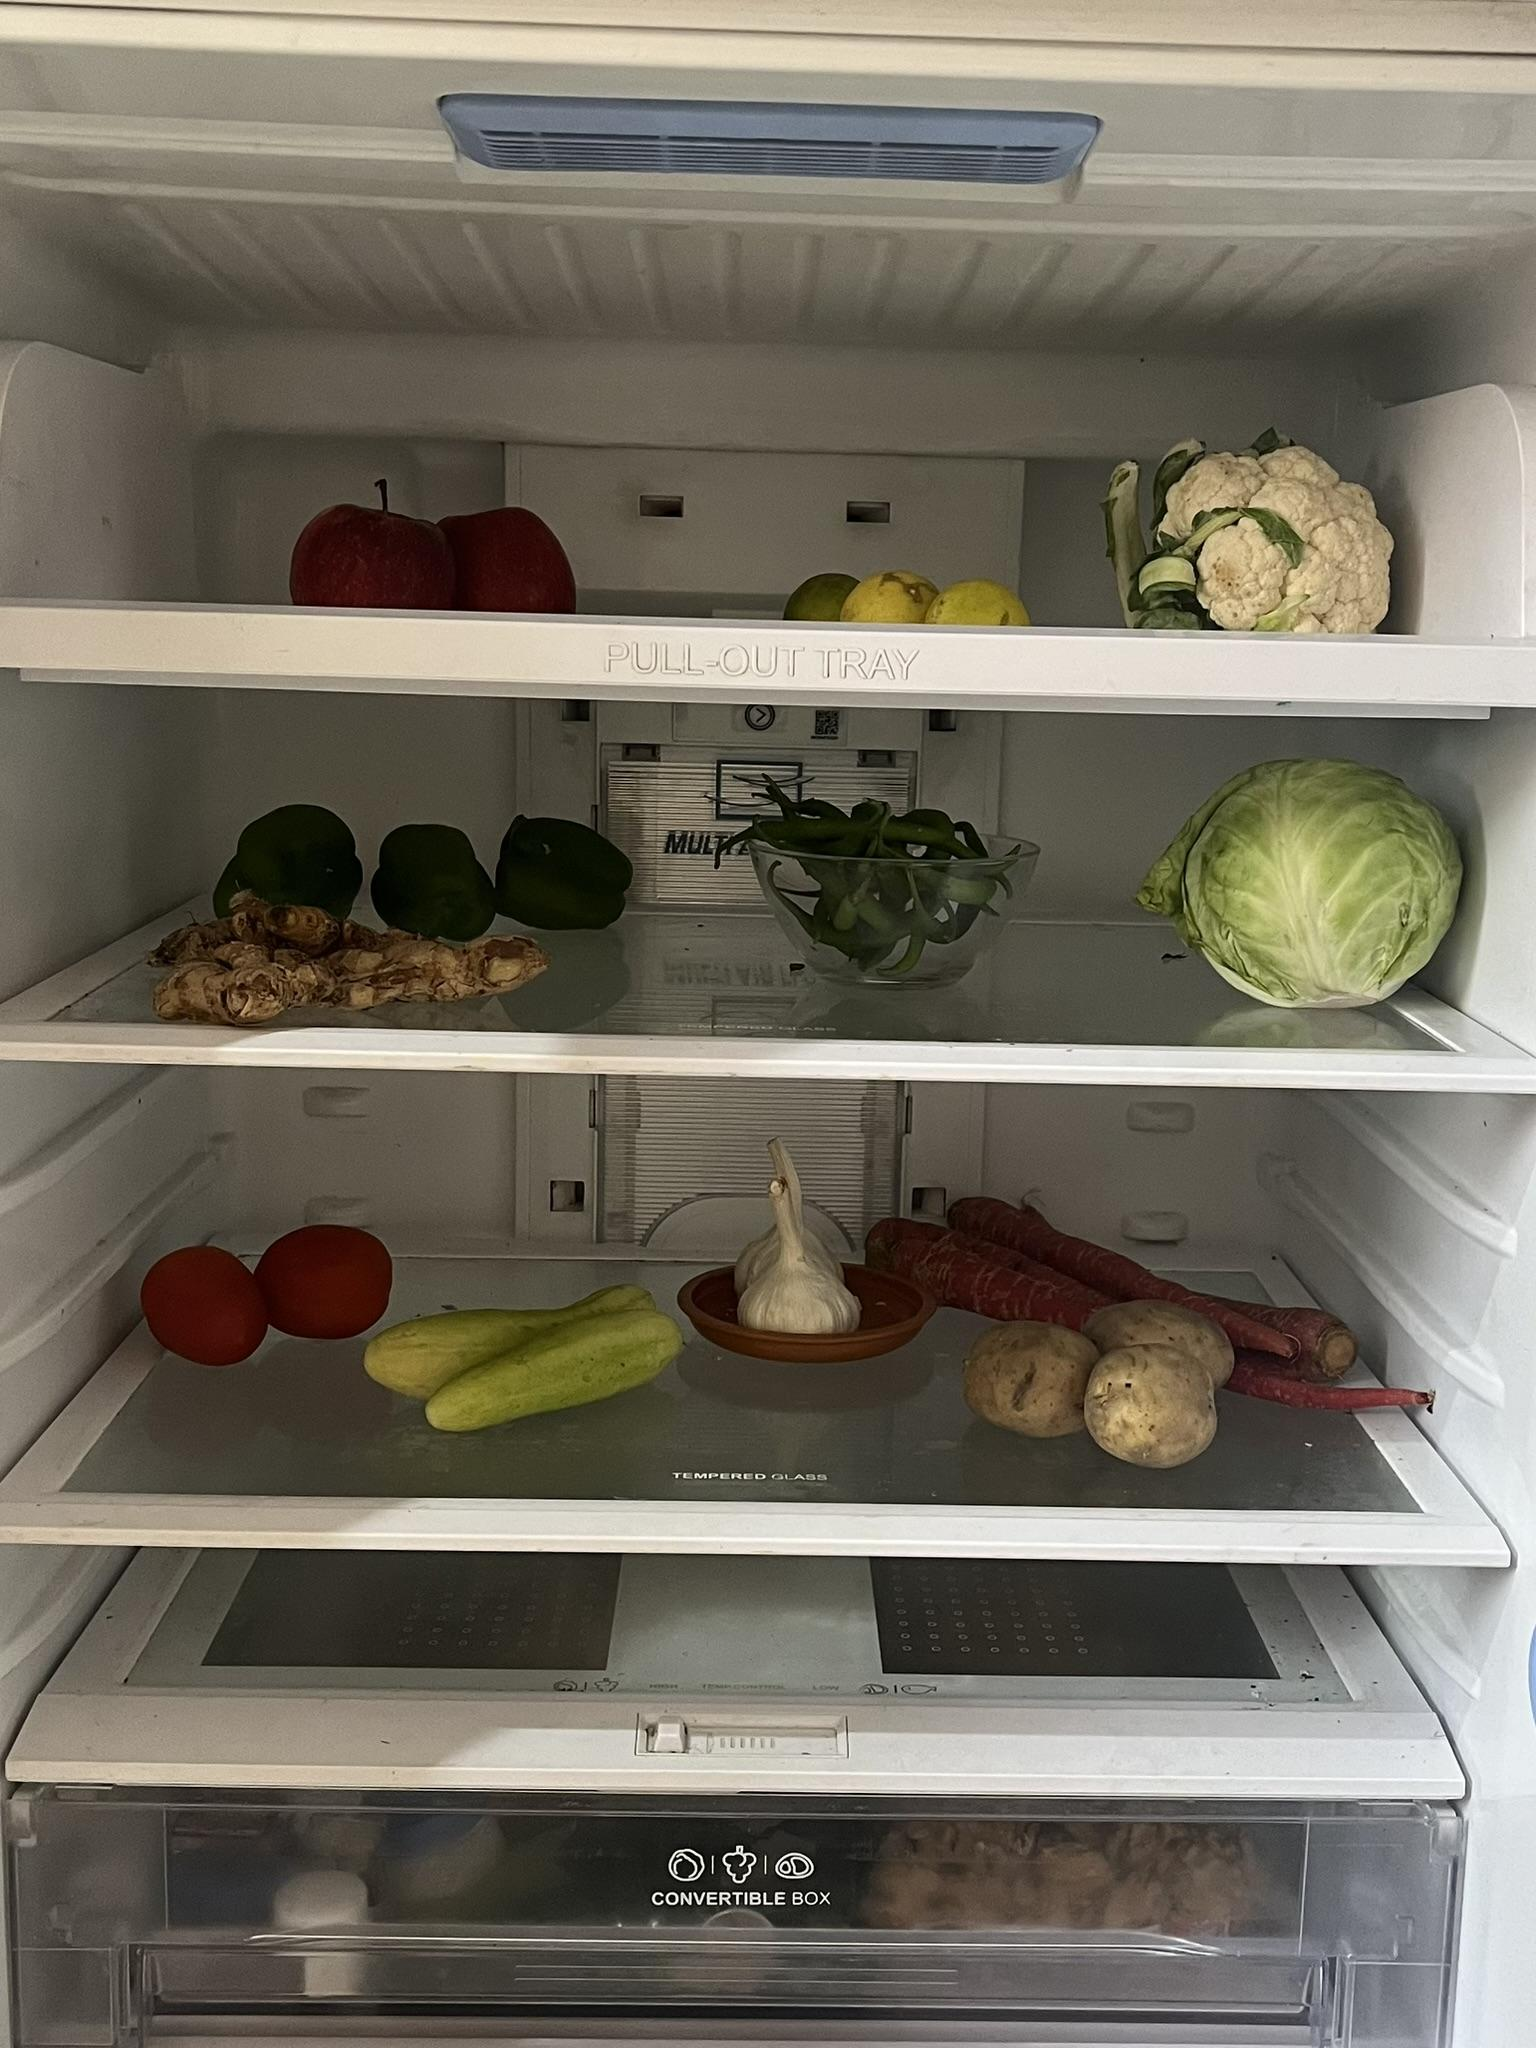apple: (289, 481, 571, 601)
cabbage: (1186, 747, 1475, 1022)
capsicum: (232, 792, 647, 926)
carrots: (902, 1192, 1404, 1387)
cauliflower: (1117, 421, 1404, 629)
chillies: (762, 772, 1021, 972)
cucumber: (374, 1272, 681, 1432)
garlic: (721, 1156, 865, 1350)
ginger: (152, 916, 544, 1019)
lemon: (831, 552, 1041, 626)
potato: (952, 1292, 1238, 1476)
tomato: (129, 1206, 387, 1379)
